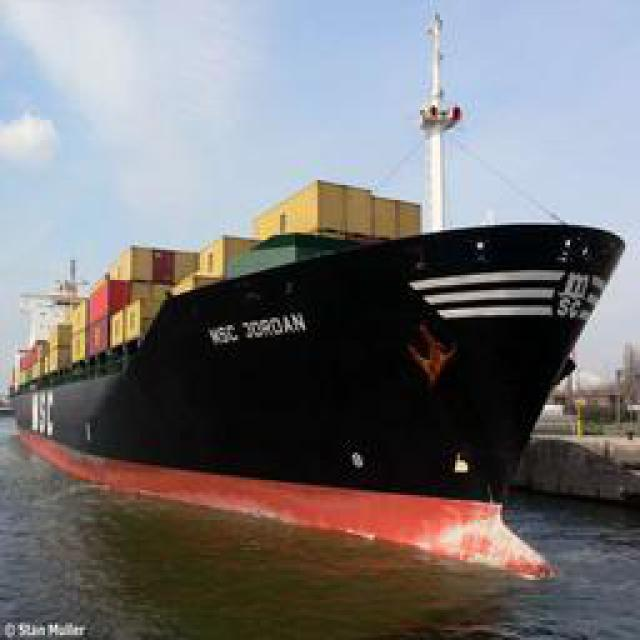Ship: (25, 216, 625, 536)
